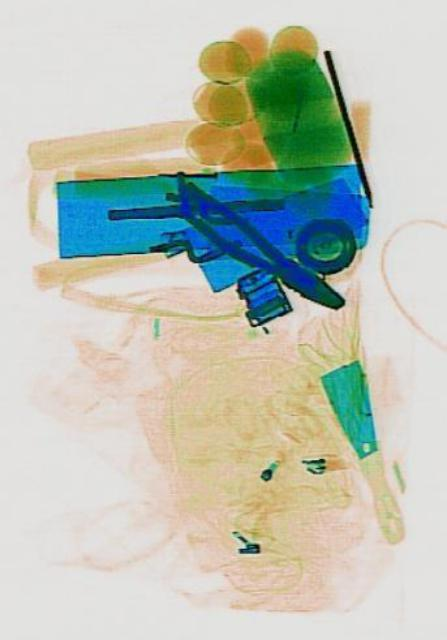Pliers: (170, 177, 347, 326)
